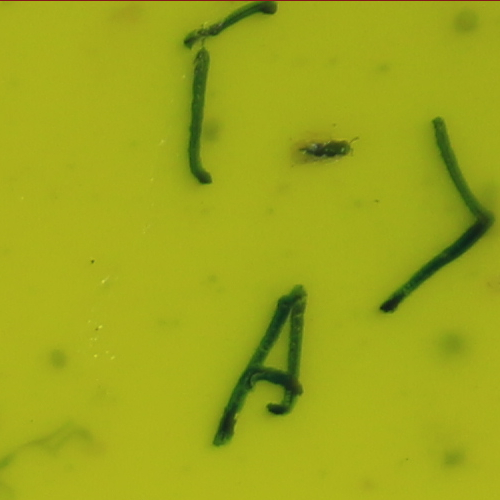Psyllaephagus: (300, 133, 356, 159)
